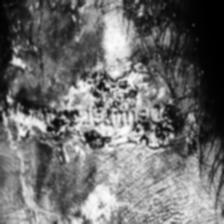Toxin: (0, 62, 176, 151), (2, 0, 106, 59), (17, 176, 118, 224)
